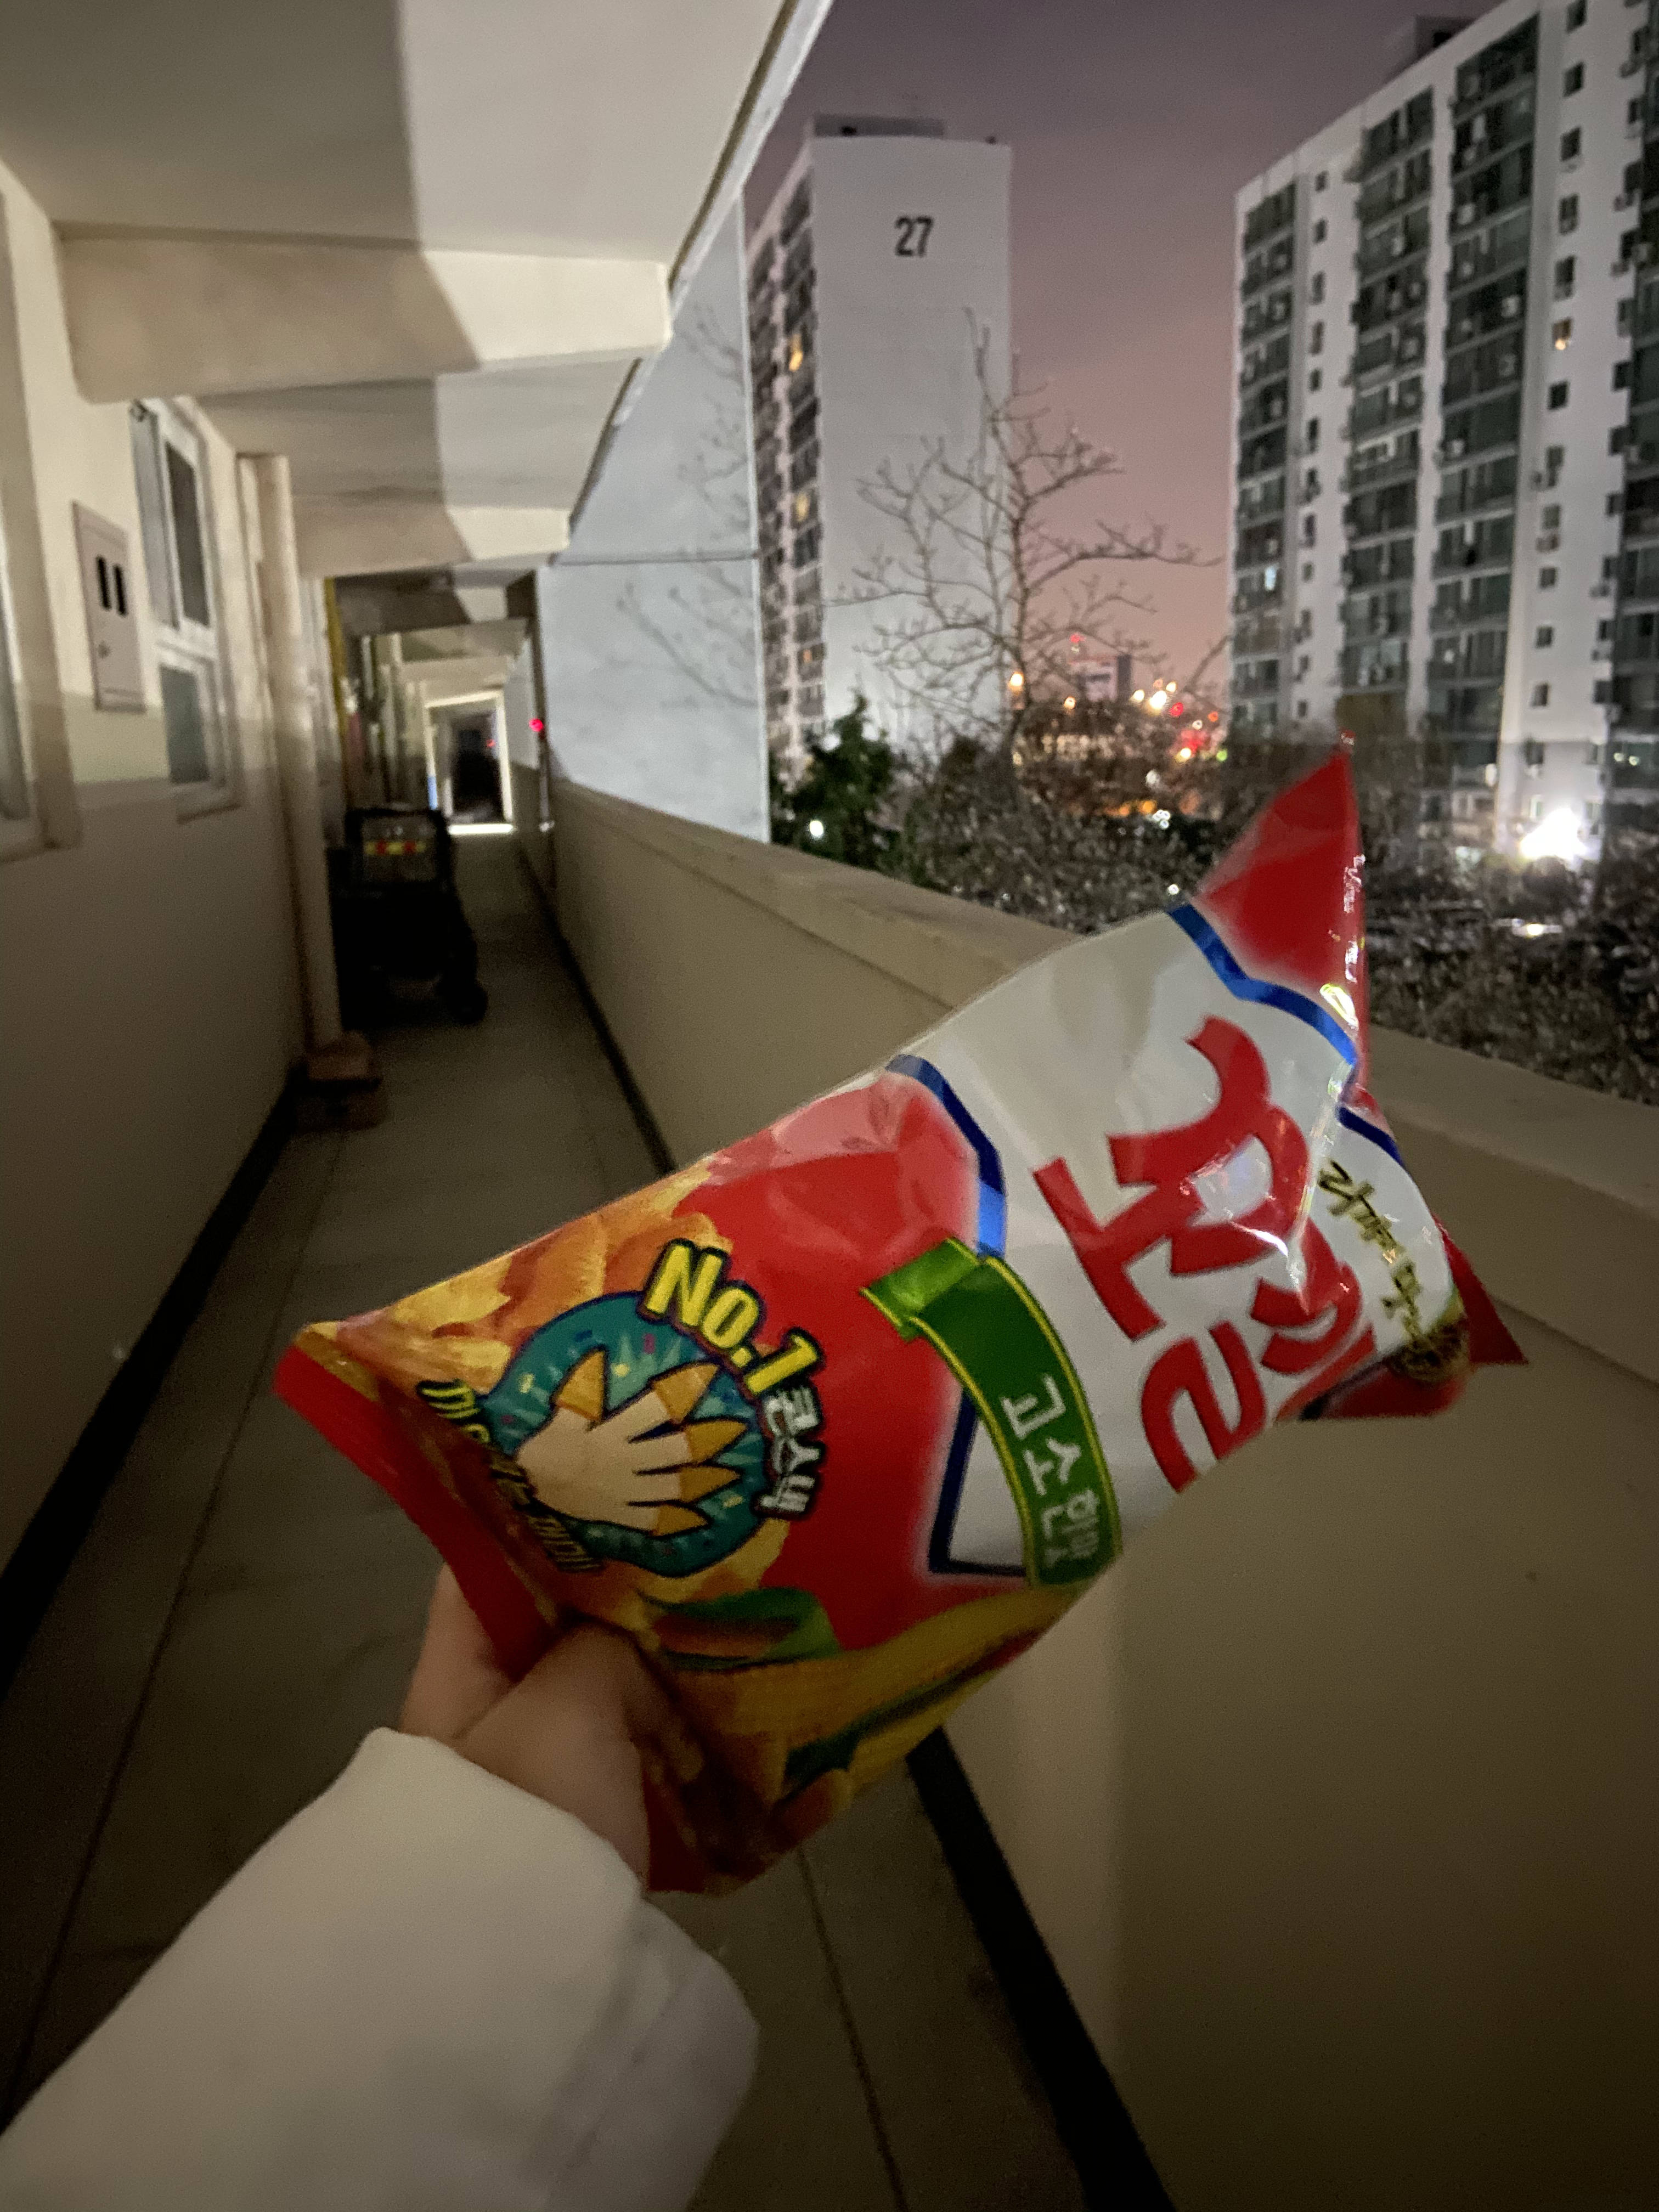ggoggalcon: (254, 721, 1549, 1919)
